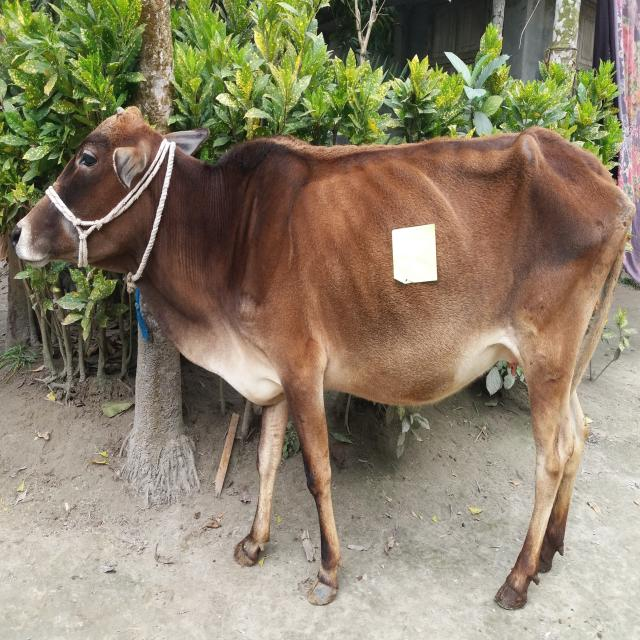badan_sapi: (275, 142, 637, 401)
sapi: (11, 103, 635, 607)
